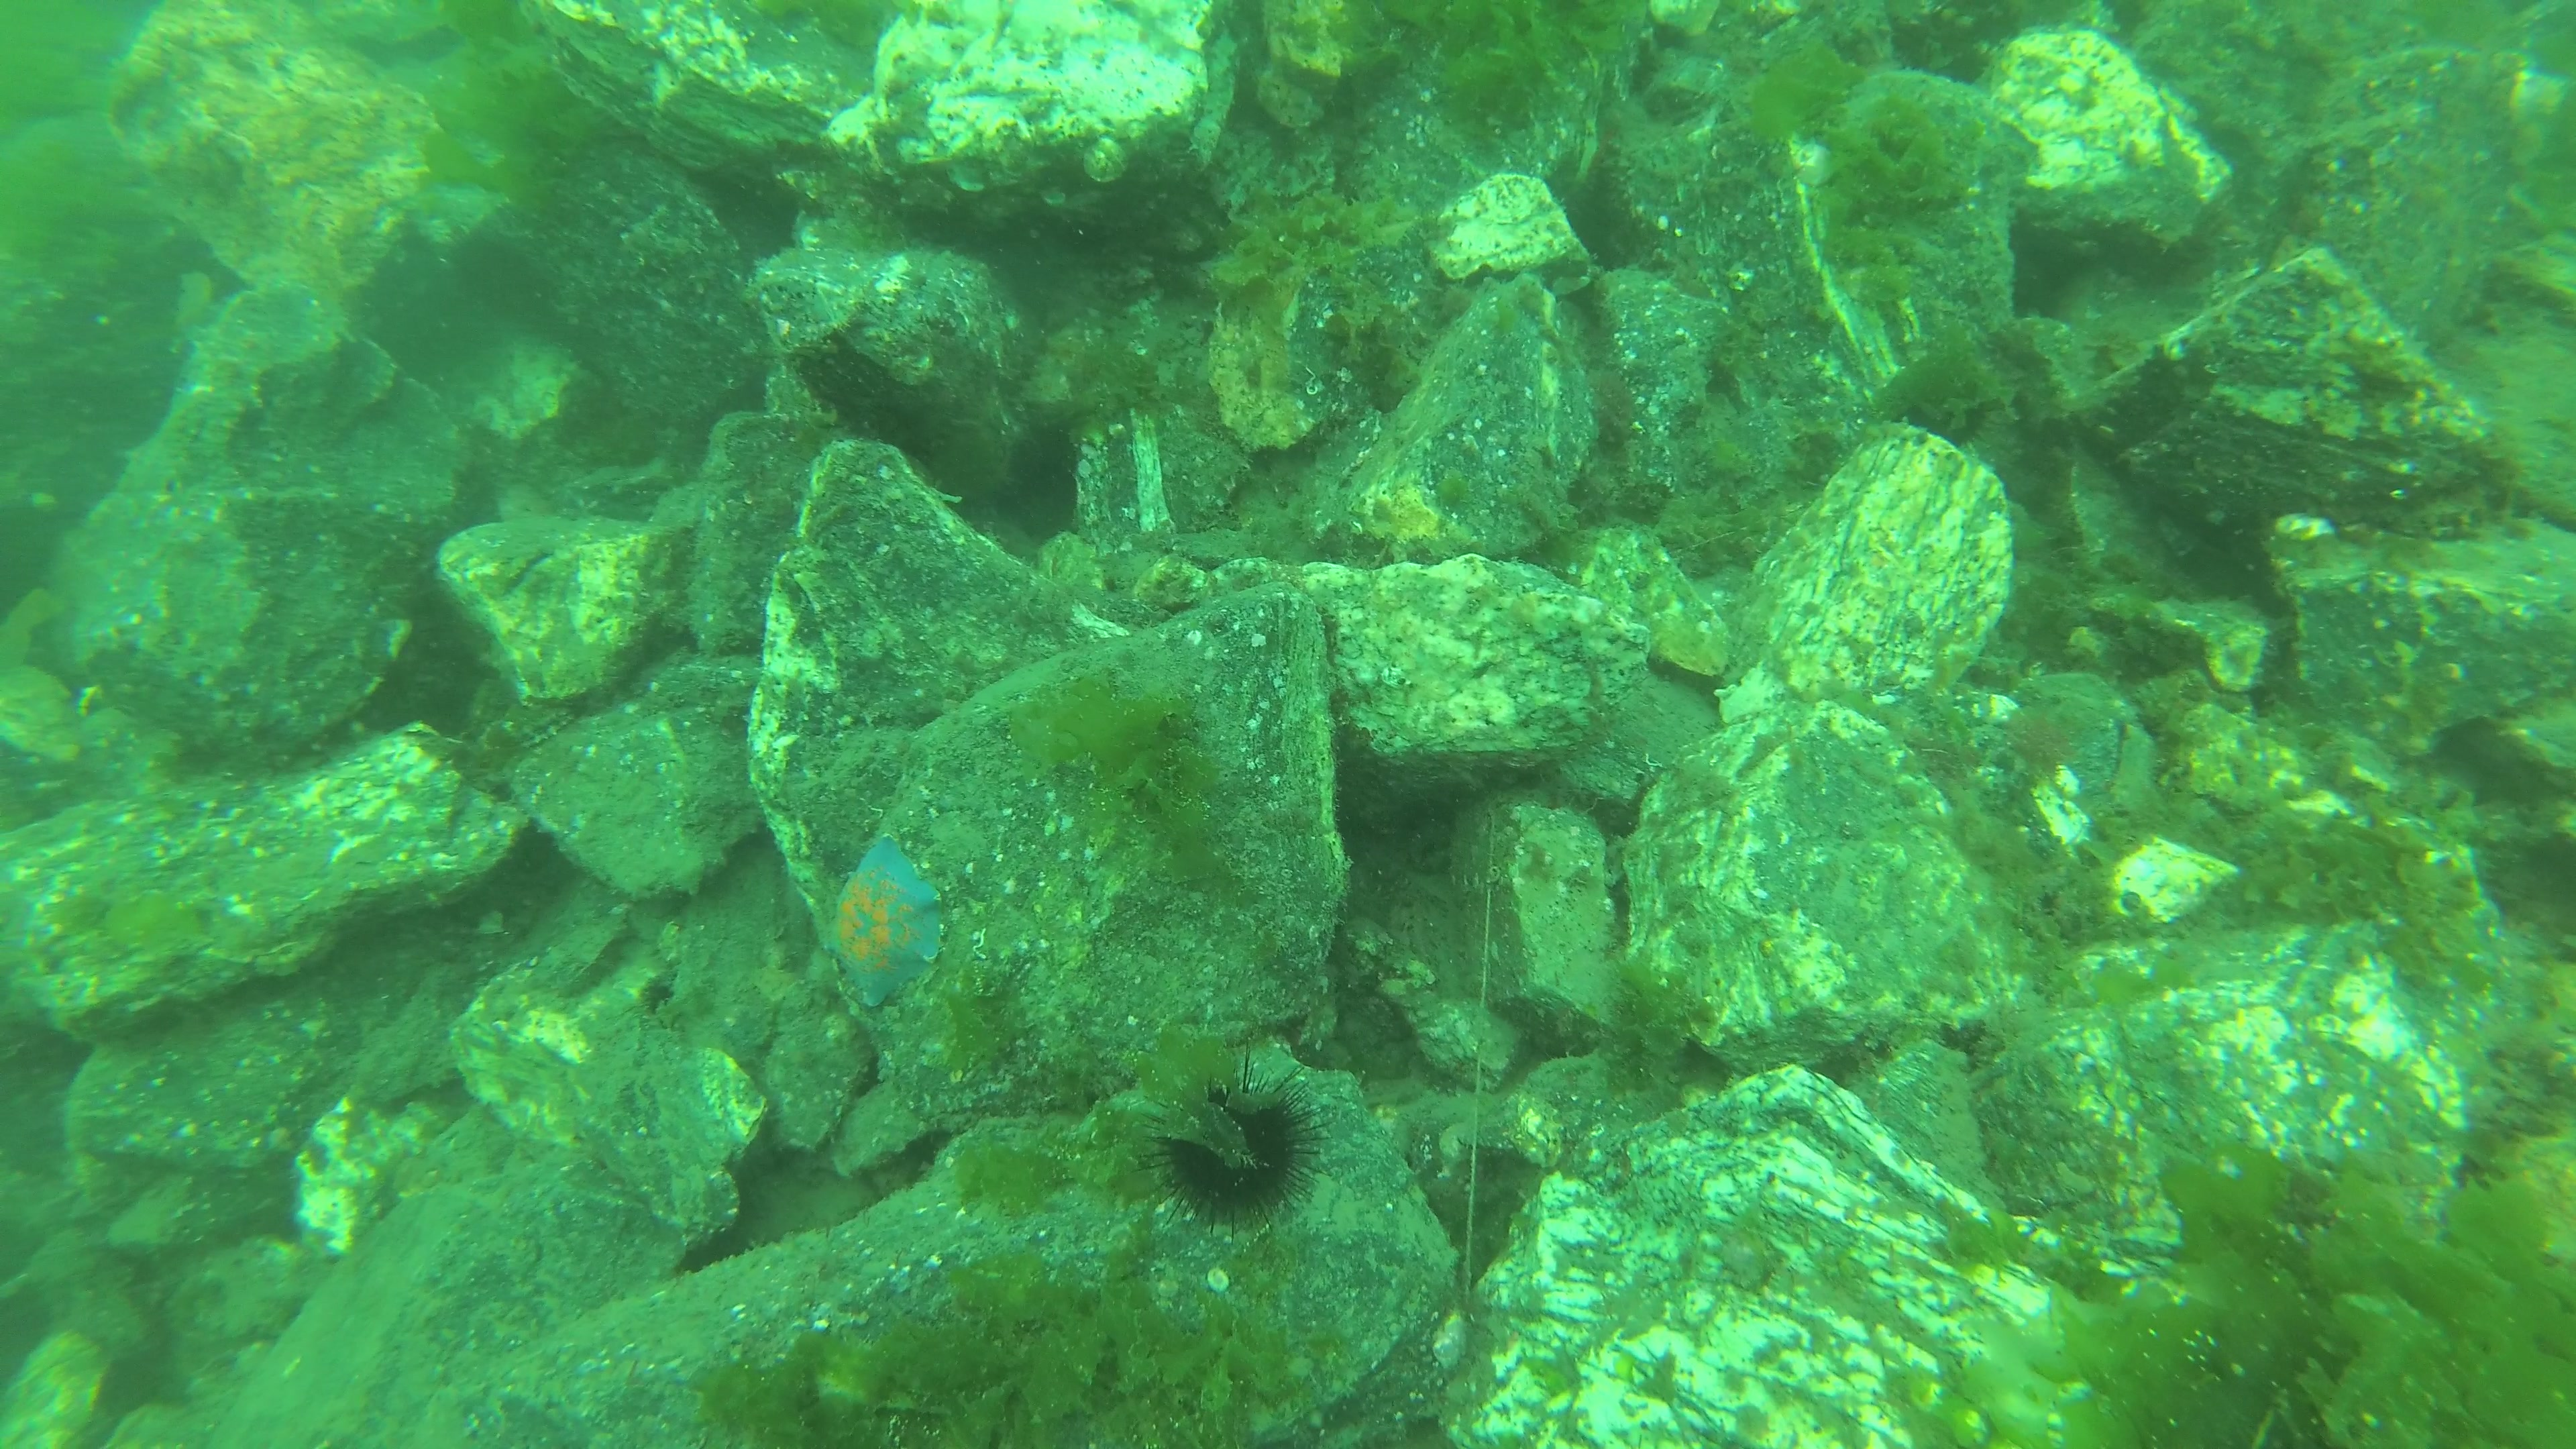echinus: (1143, 1067, 1329, 1240)
starfish: (826, 821, 952, 1016)
